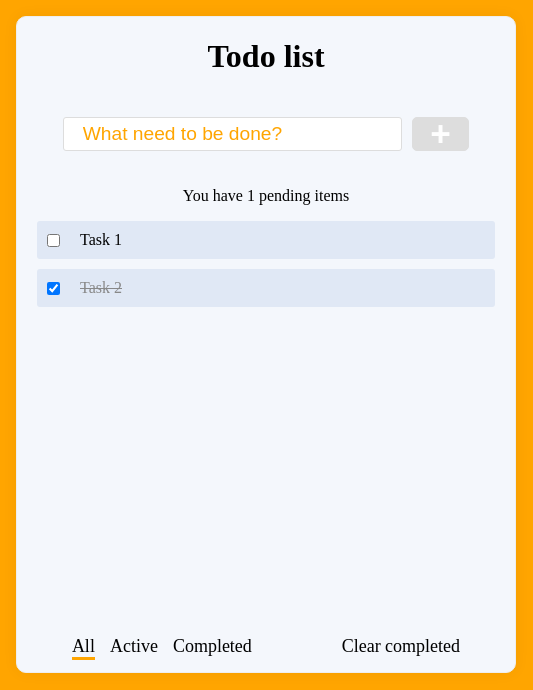
Test: App › should clear completed todos
This screenshot has width=533, height=690.
Click the button "Clear completed" at [401, 647], box [342,636,460,658]
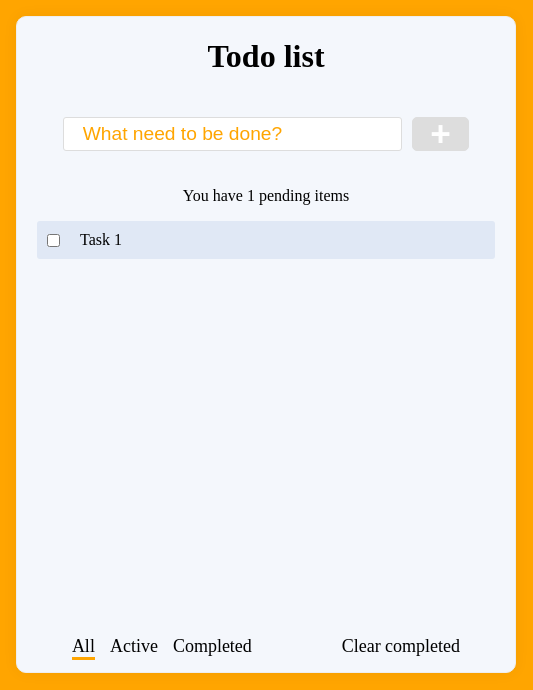
Now the number of list items with test id "todo-item" is 1, box [37,222,495,260]
